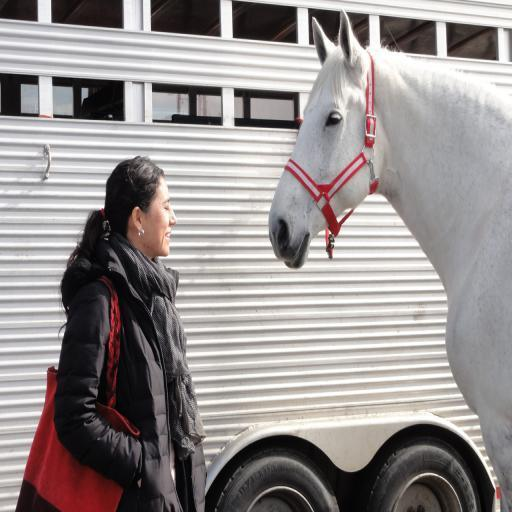horse: (270, 7, 512, 512)
